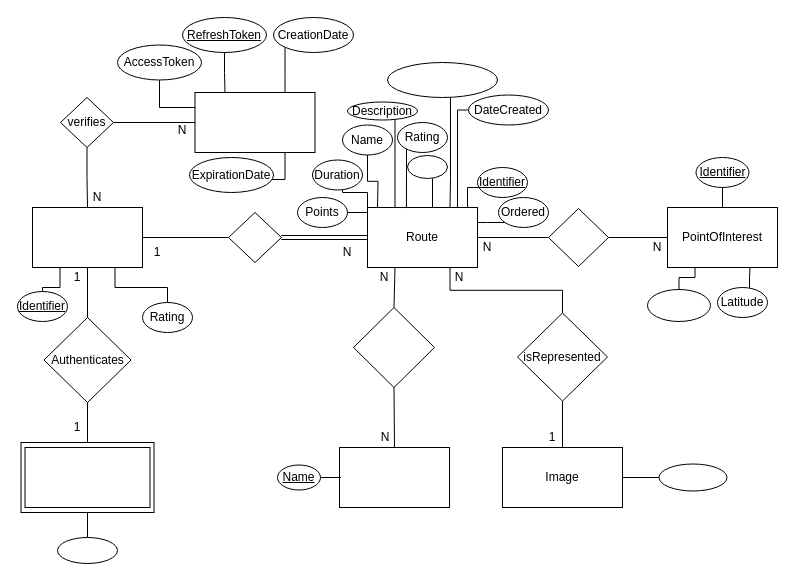
Some shapes in this 795 by 581 pixel diagram are drawn without their labels. Here are the shapes that lost their labels. From the top down, the box of each, then its label:
(386, 62, 498, 98): LocationIdentifier
(194, 92, 315, 152): Authentication
(406, 154, 448, 178): Circular
(32, 206, 142, 268): Person
(228, 212, 282, 262): creates
(548, 208, 608, 266): contains
(646, 288, 710, 322): Longitude
(352, 306, 434, 388): isCategorized
(24, 446, 150, 508): GoogleAuthentication
(338, 446, 450, 508): Category
(658, 463, 727, 491): Reference
(56, 536, 118, 564): Subject
